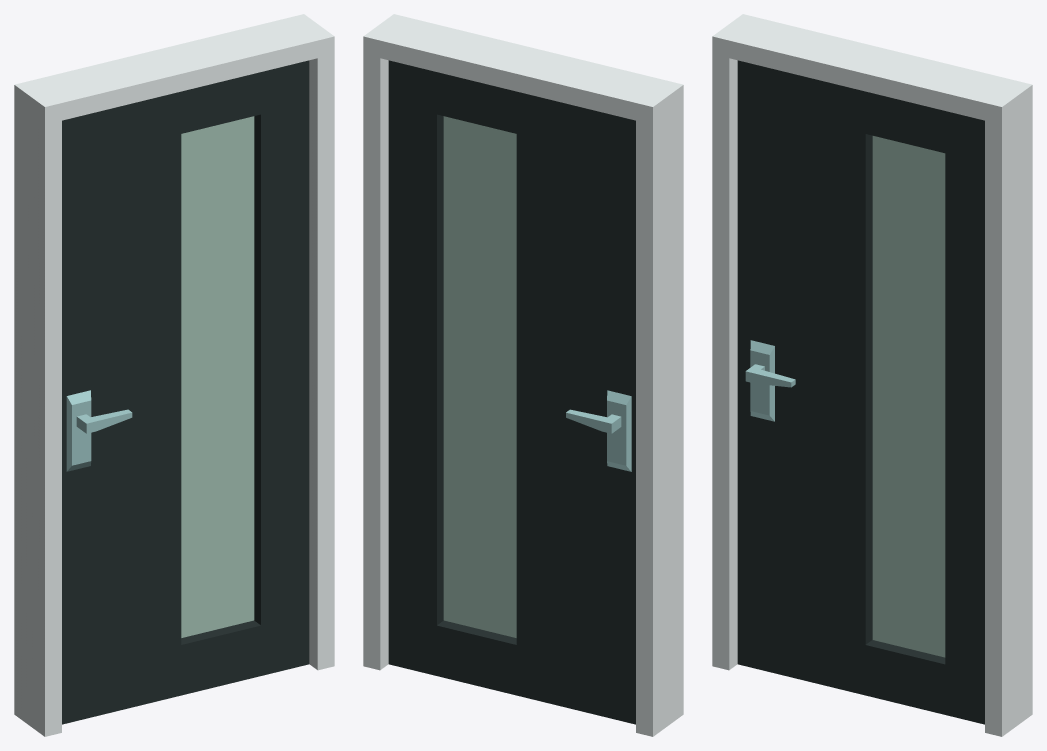
The model's file is doorwayFront.glb.
The picture shows the model from 3 angles, left to right: view 1: azimuth 30°, elevation 25°; view 2: azimuth 150°, elevation 25°; view 3: azimuth 330°, elevation 25°; orthographic projection.
Size of the model in its own units: 4.86 by 10.1 by 1.13.
